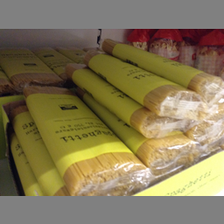pasta: (24, 84, 152, 195), (83, 50, 207, 116), (1, 47, 63, 88)
